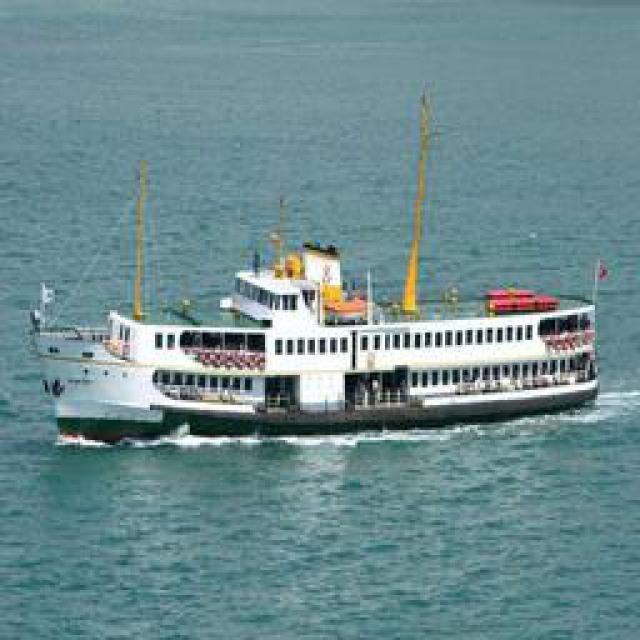Ship: (46, 183, 599, 438)
